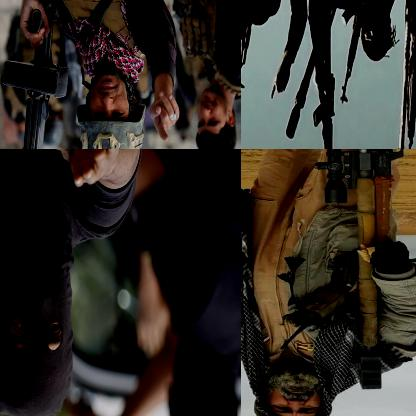rifle: (317, 149, 415, 391), (0, 0, 64, 148), (339, 0, 366, 110), (312, 71, 337, 148), (241, 11, 254, 92)
